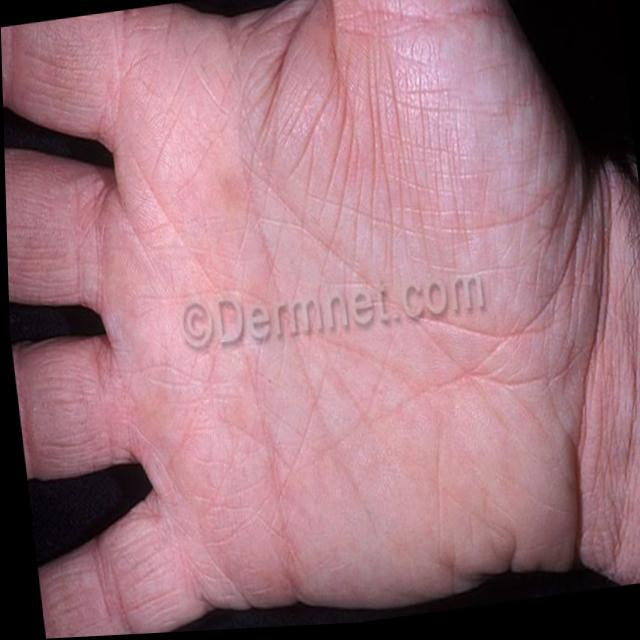liquenificacion 1: (1, 0, 640, 639)
